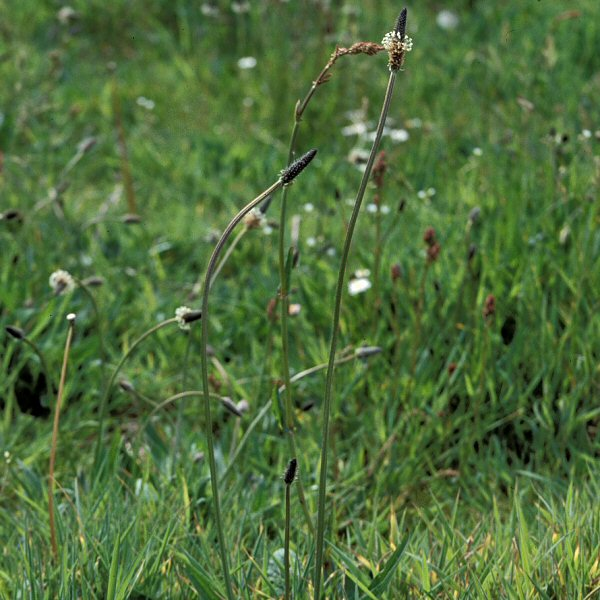buckhorn plantain: (256, 7, 484, 600), (186, 127, 329, 600)
